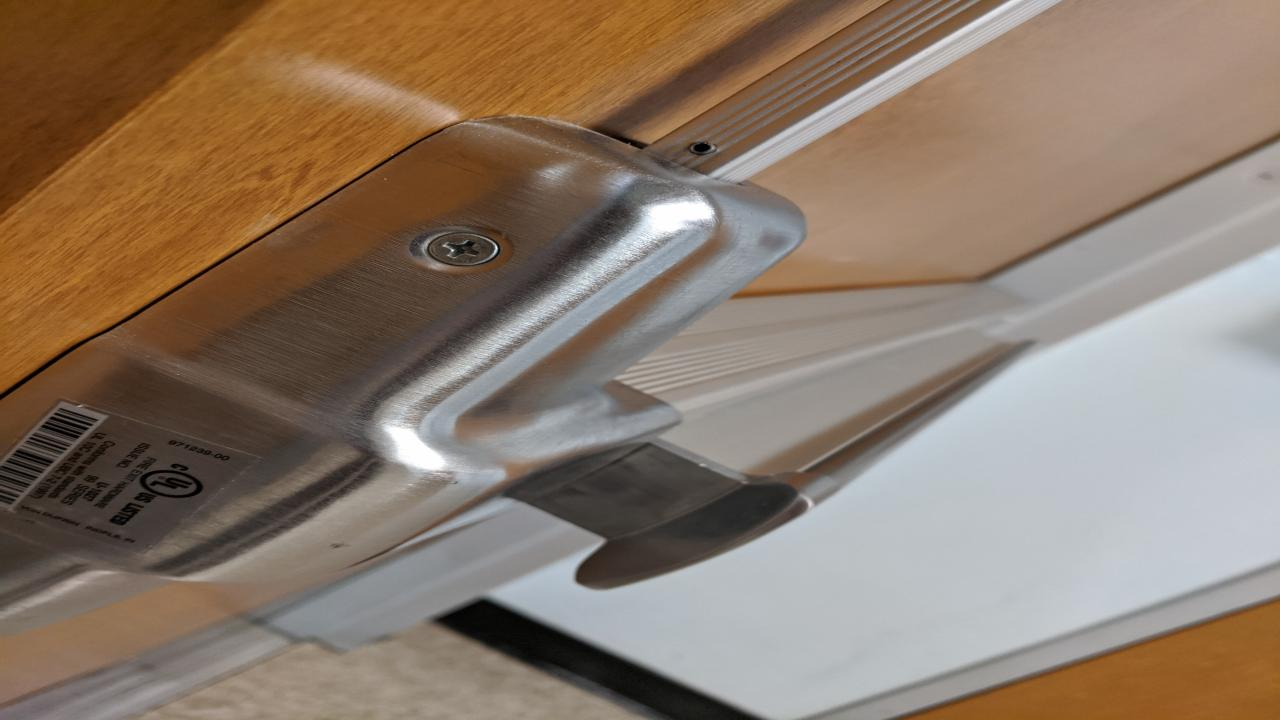CRS: (418, 230, 500, 267)
